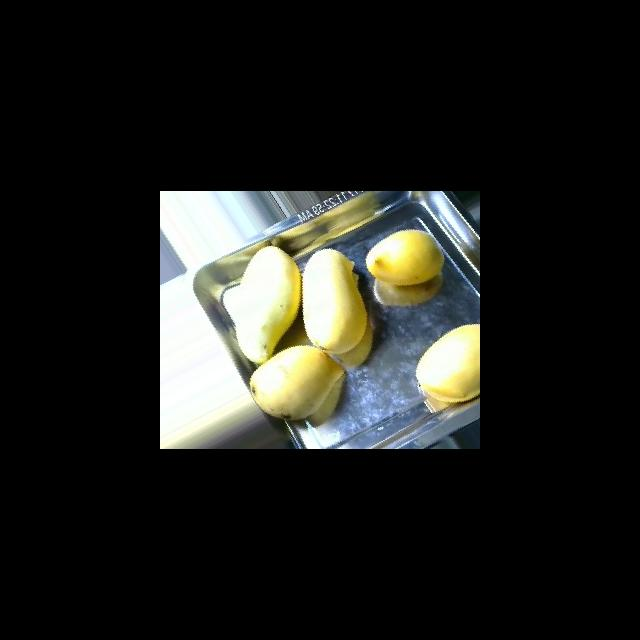mango: (221, 245, 301, 364), (249, 344, 346, 423), (301, 247, 367, 354), (415, 323, 479, 402), (365, 228, 444, 285)
